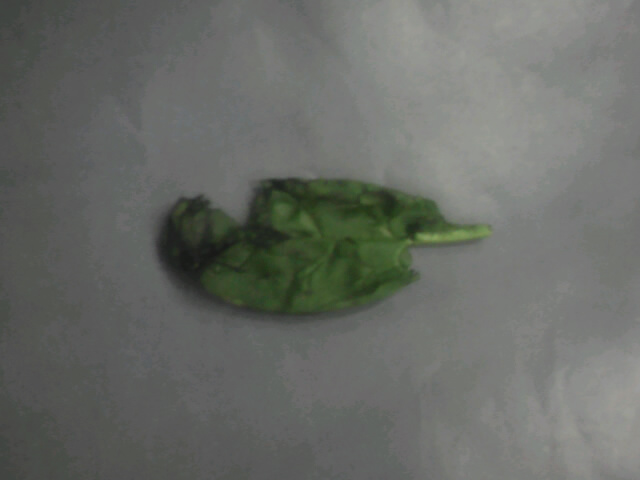yellow: (152, 151, 502, 329)
